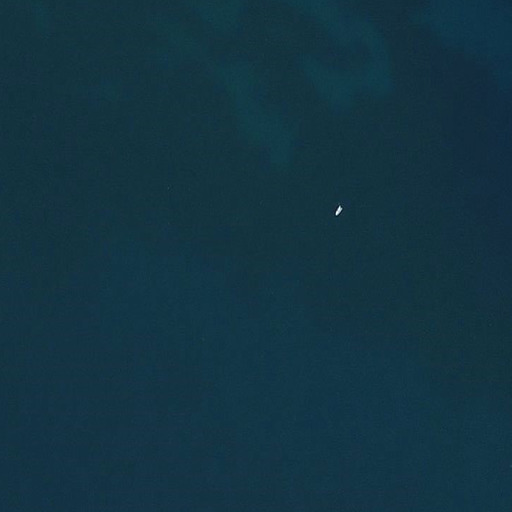ship: (332, 202, 344, 217)
